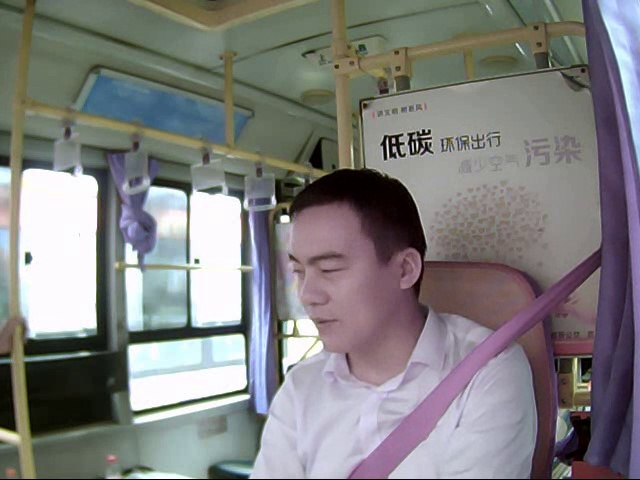closed_eye: (316, 262, 348, 278)
closed_mouth: (306, 315, 340, 329)
